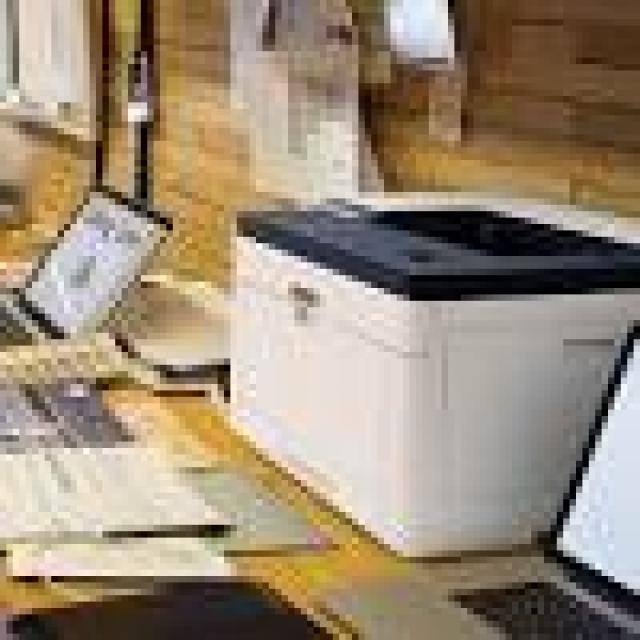printer: (210, 156, 640, 584)
